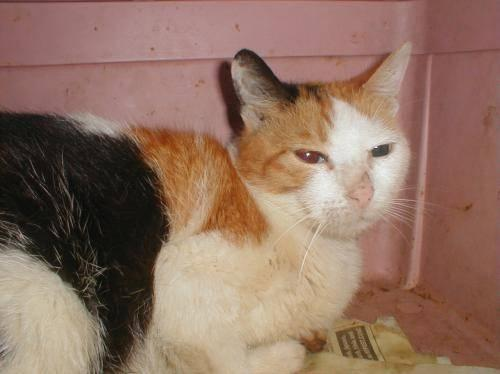cat: (0, 43, 410, 373)
